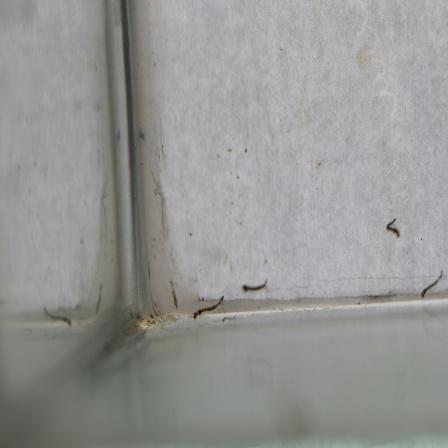Jentik-Nyamuk: (191, 294, 226, 321), (384, 215, 402, 239)
